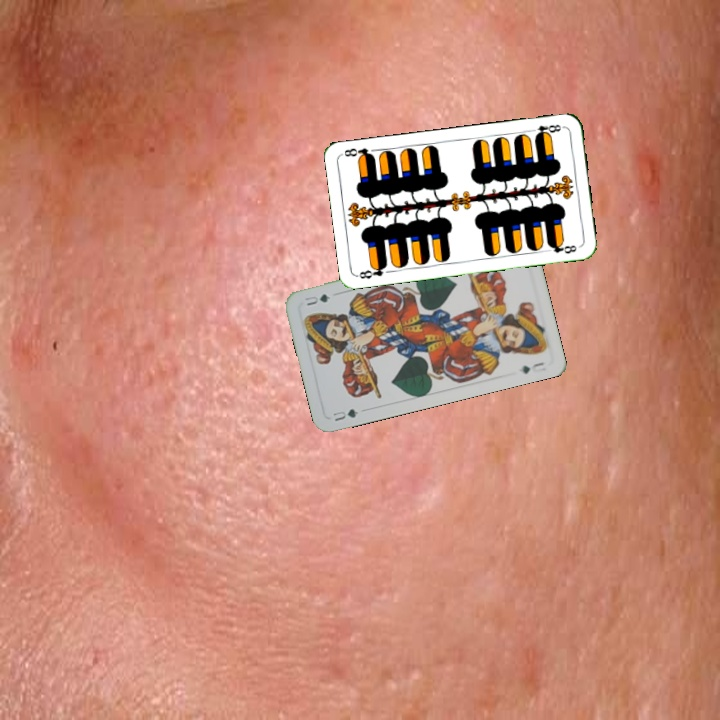E8: (526, 120, 566, 140), (354, 260, 390, 281)
GU: (329, 404, 361, 424)
